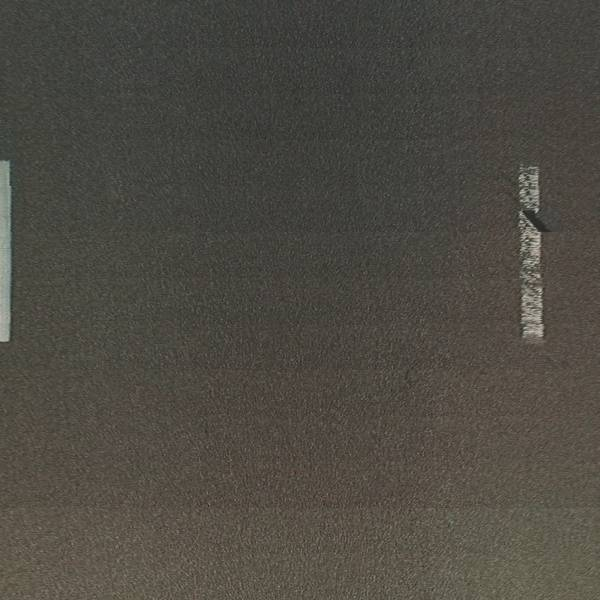road_damage: (522, 202, 567, 237)
